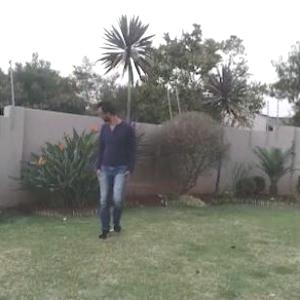follow: (90, 96, 139, 246)
